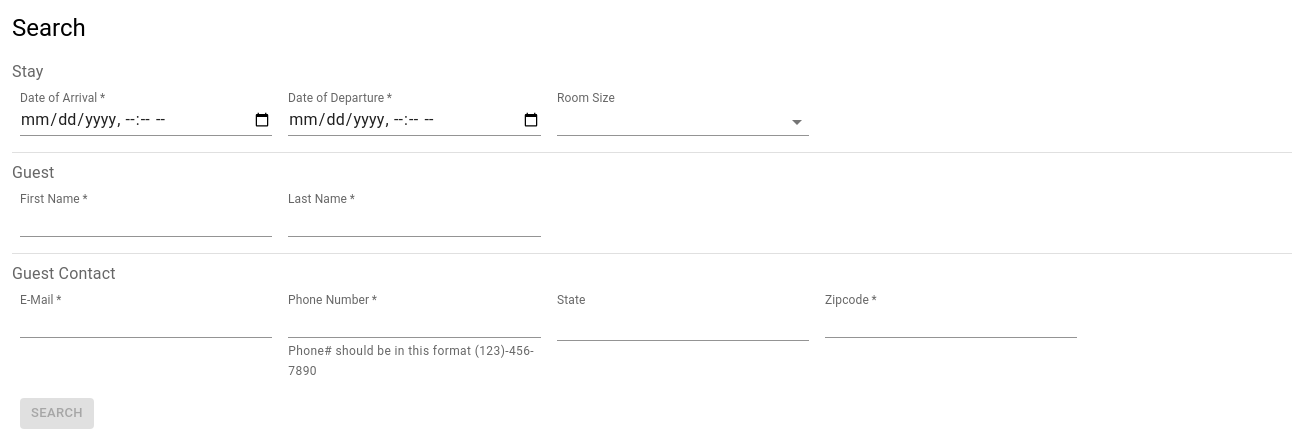
Test: Reservation page › should validate phone
The image size is (1292, 446).
Type "12345" into the field with test id "phone".
click(414, 324); type("12345")  # box [288, 309, 541, 338]
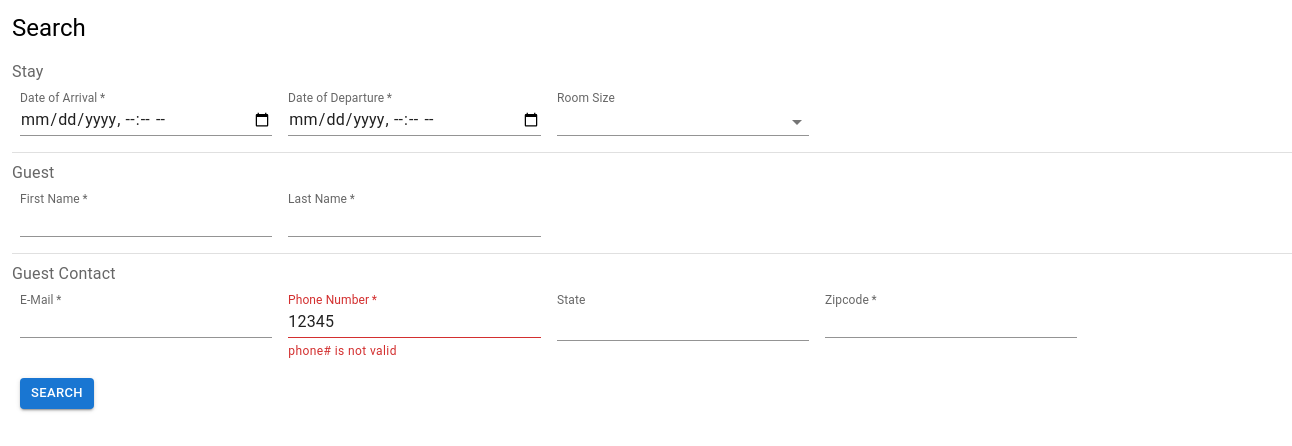
Expected: the text "phone# is not valid" is shown, [288, 344, 397, 358]
